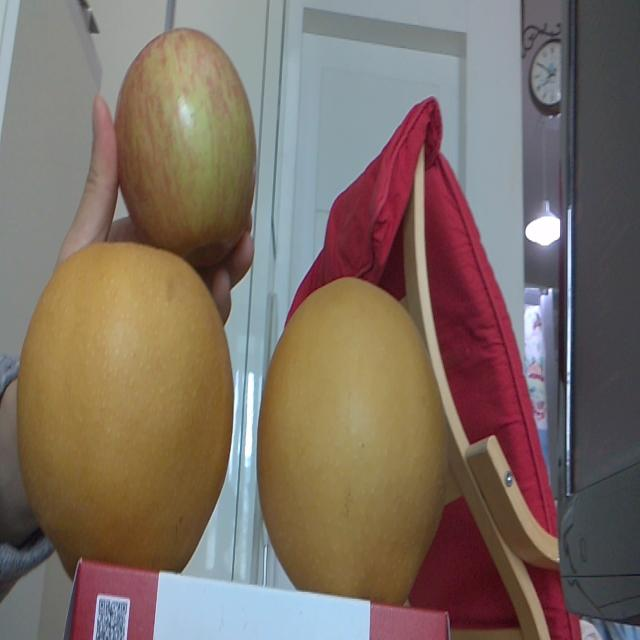apple: (112, 27, 255, 241)
pear: (15, 245, 235, 562), (259, 281, 445, 581)
